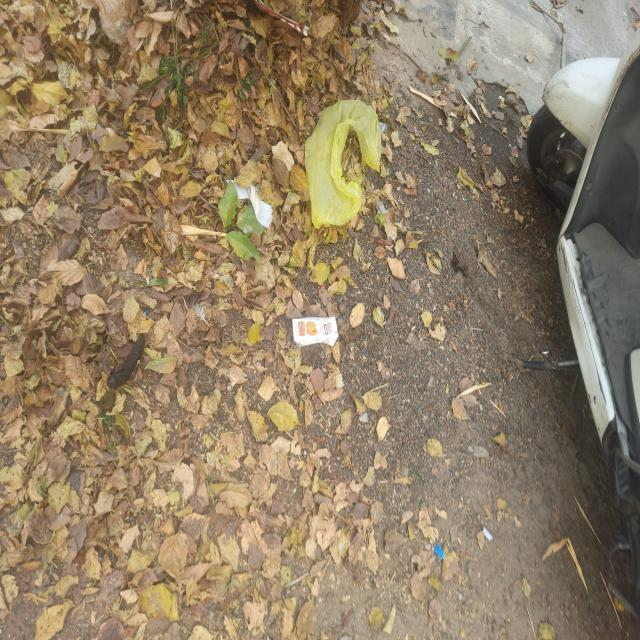Plastic_Bag: (305, 100, 381, 228), (226, 180, 272, 228)
Tetrapack: (292, 317, 339, 347)
